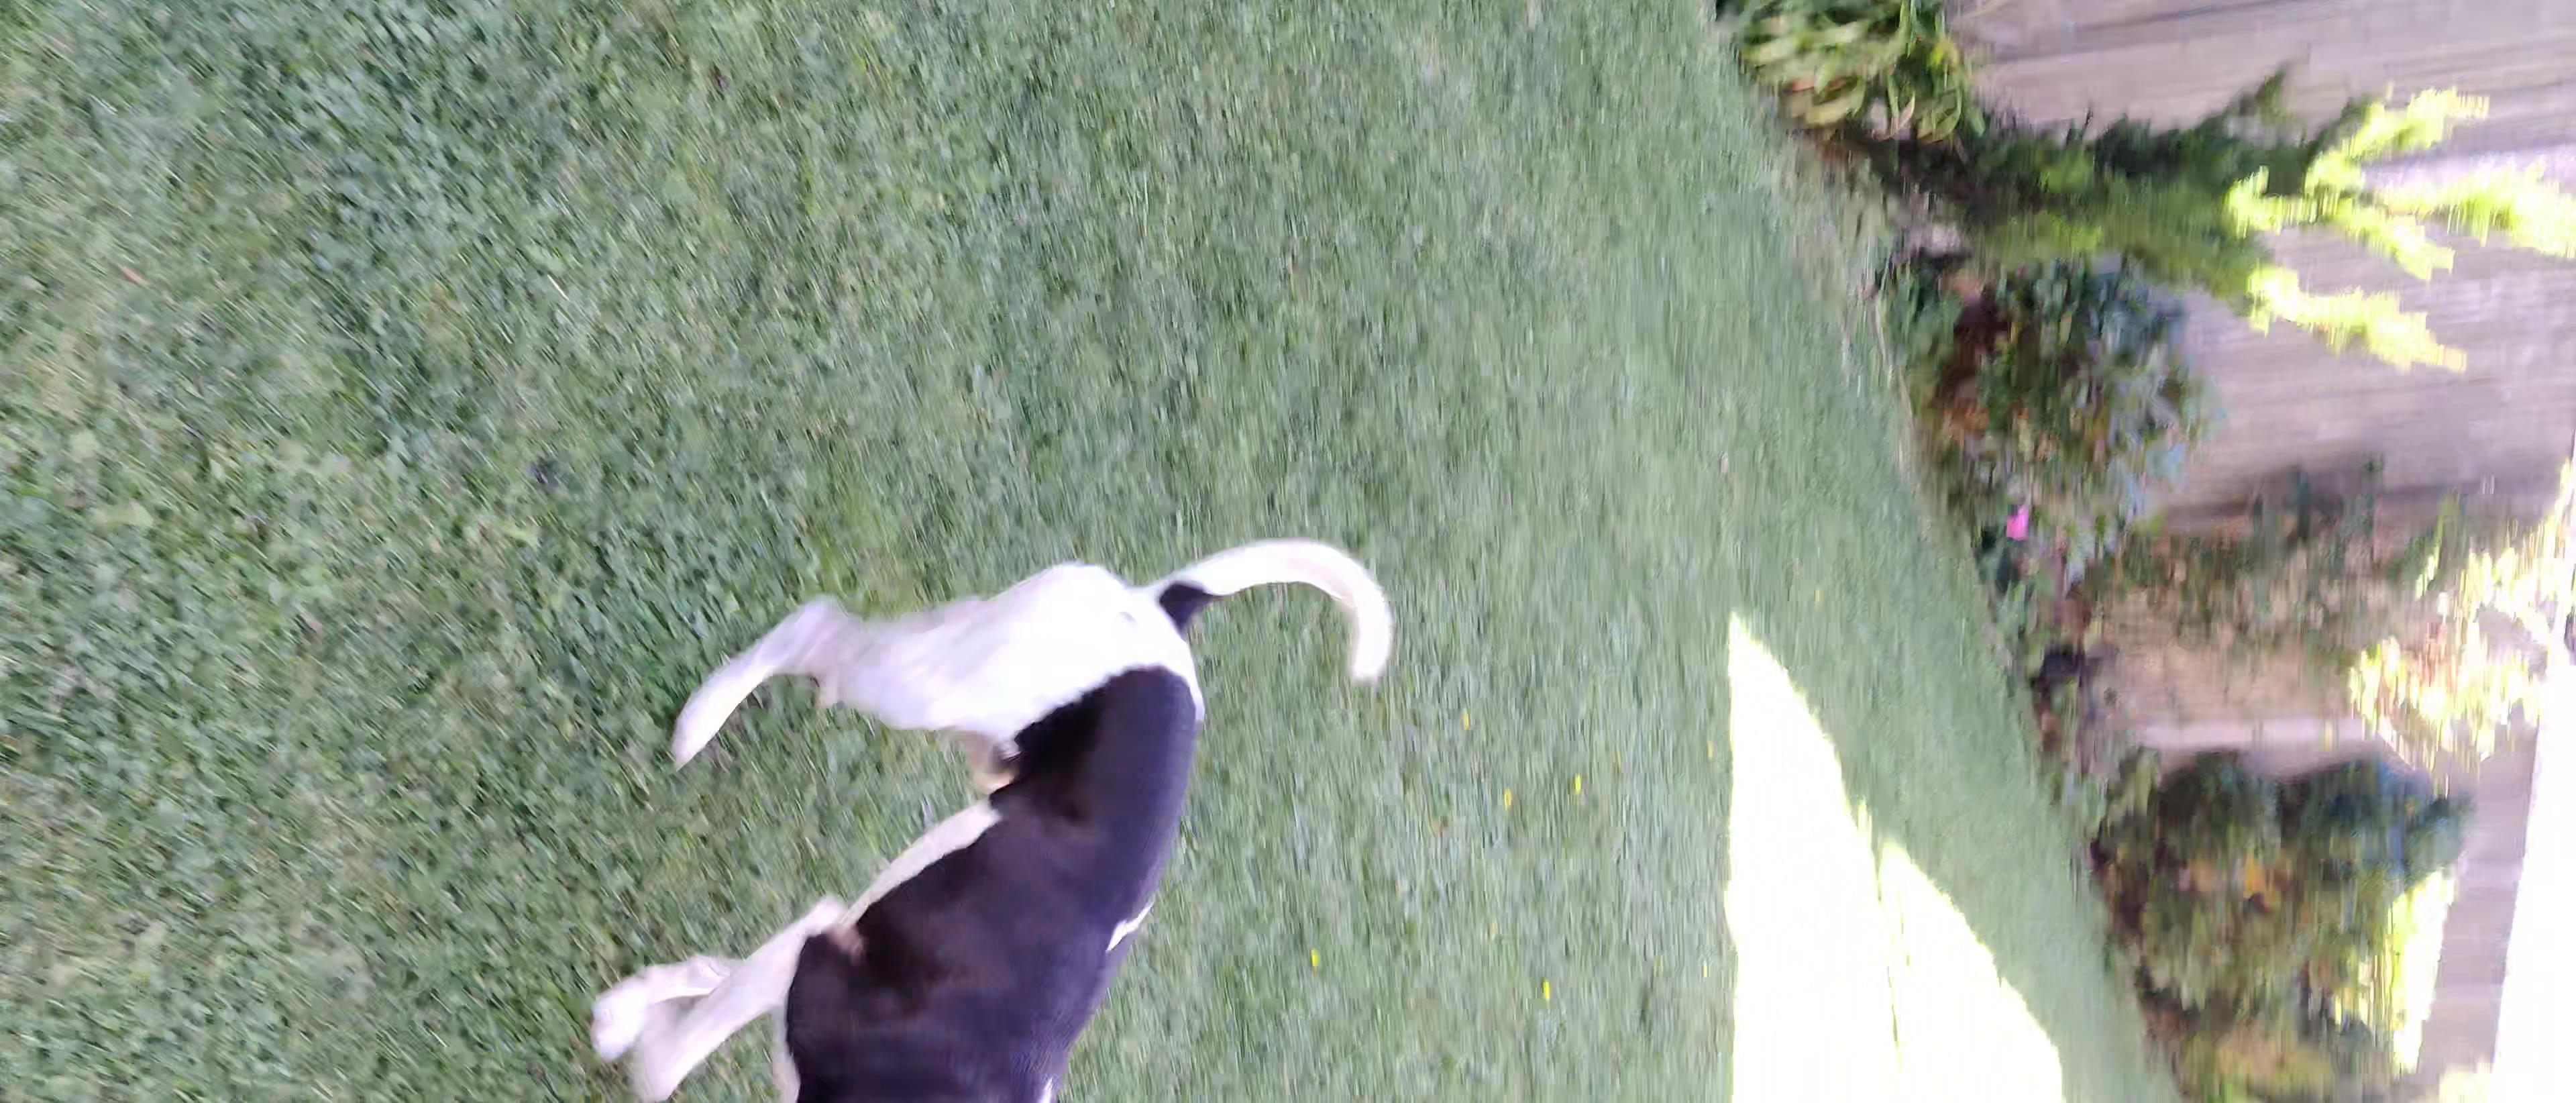Dog: (568, 515, 1413, 1103)
